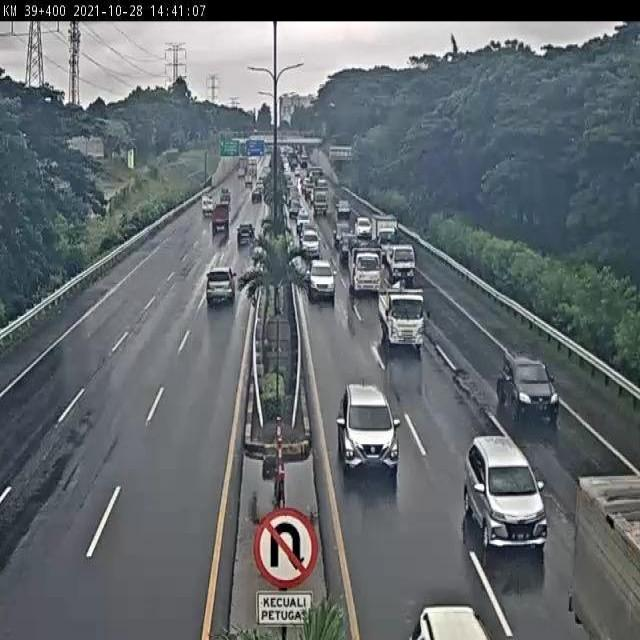car: (464, 433, 550, 552), (338, 382, 400, 474), (494, 348, 561, 421), (306, 260, 335, 303)
mid truck: (378, 290, 426, 354), (348, 244, 383, 295), (205, 266, 237, 306), (386, 242, 415, 282)
